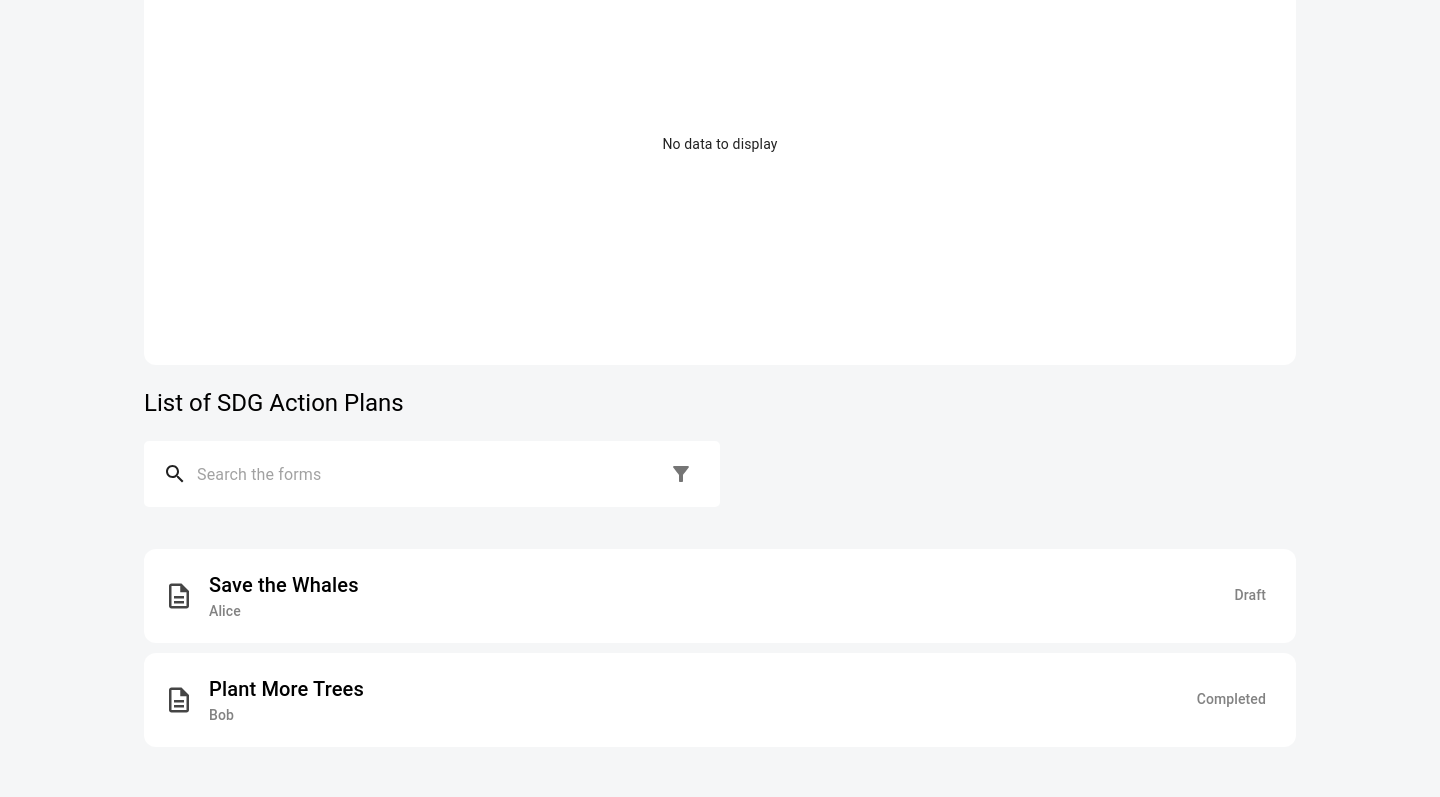
AdminOverviewSDGPlans › fetches action plans
The width and height of the screenshot is (1440, 797).
(page scrolled)
Expected: the heading "Save the Whales" is shown, 209,569 -> 359,601
Expected: the heading "Plant More Trees" is shown, 209,673 -> 364,705
Type "Whales" into the field with placeholder "Search the forms". click: [429, 474]
box: 197,446 -> 661,502
(page scrolled)
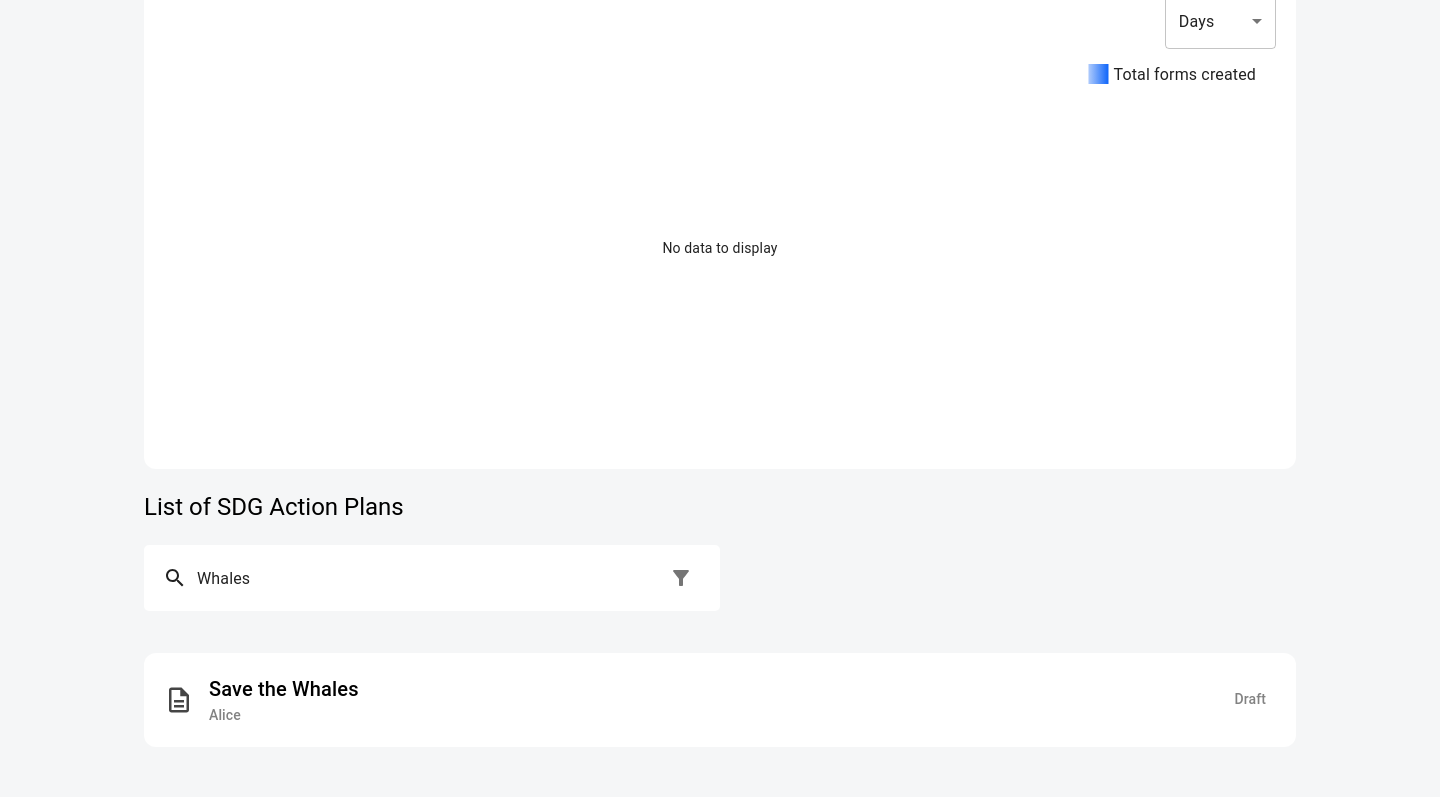
Expected: the heading "Save the Whales" is shown, 209,673 -> 359,705
Now the heading "Plant More Trees" is gone
